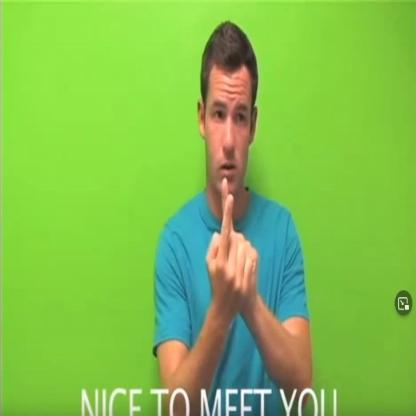NiceToMeetYou: (198, 170, 268, 325)
